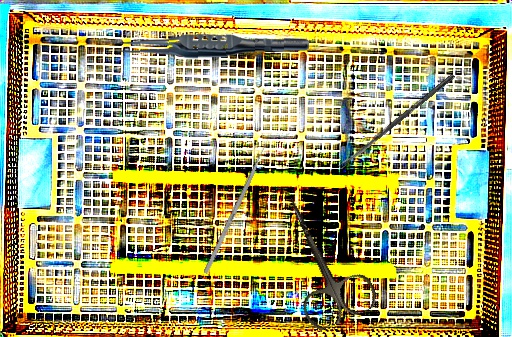Iris Scissors: (259, 182, 381, 335)
Pusher: (203, 132, 273, 275)
Surgical Spoon: (337, 72, 456, 170)
Tissue Forceps: (114, 29, 310, 62)
